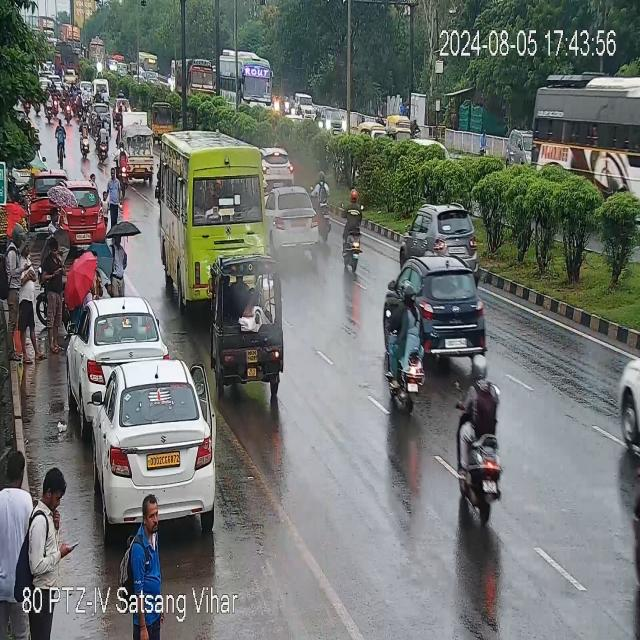2-wheelers: (459, 356, 503, 512), (388, 274, 422, 404), (342, 201, 367, 267), (44, 81, 80, 122), (316, 176, 335, 238), (96, 120, 110, 161), (56, 120, 66, 164), (79, 122, 90, 157)
auto: (210, 256, 282, 394), (354, 116, 412, 145), (146, 93, 174, 135)
bus: (155, 128, 269, 310), (527, 72, 640, 207), (216, 49, 272, 112)
car: (75, 364, 215, 531), (387, 255, 489, 362), (70, 297, 168, 395), (33, 180, 111, 242), (404, 204, 479, 256), (266, 173, 314, 249), (619, 316, 640, 458), (262, 139, 296, 188), (504, 125, 528, 167), (318, 109, 352, 138), (113, 95, 132, 117)
pedestrian: (121, 496, 170, 595), (35, 471, 74, 595), (18, 245, 48, 357), (2, 236, 26, 353), (43, 237, 67, 347), (108, 223, 124, 295), (42, 464, 68, 507), (106, 168, 125, 217)
truck: (176, 57, 224, 101), (129, 124, 153, 176)
